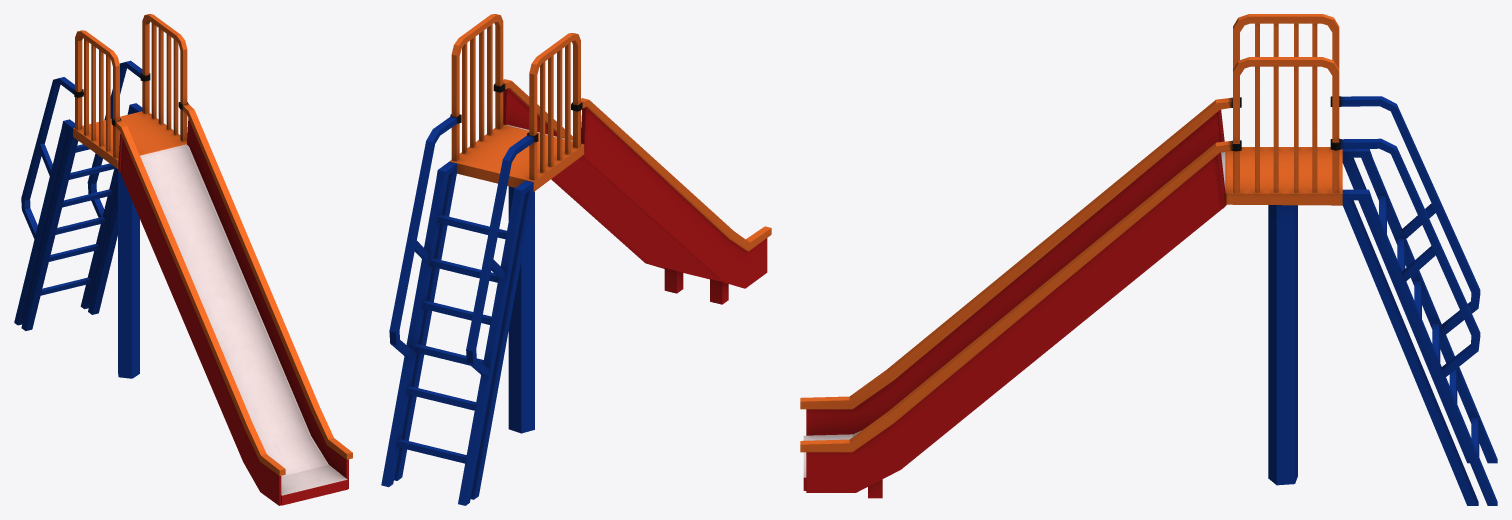
File: slide-opt.glb
3 renders of one model, left to right at view 1: azimuth 30°, elevation 25°; view 2: azimuth 150°, elevation 25°; view 3: azimuth 270°, elevation 25°, orthographic. The views are drawn at different scales.
Visible parts, largest first — view 1: Slide_Mesh; view 2: Slide_Mesh; view 3: Slide_Mesh.
Boxes of the visible parts, <box> form: Slide_Mesh: <box>14,14,352,505</box>; Slide_Mesh: <box>381,14,771,505</box>; Slide_Mesh: <box>800,14,1497,505</box>.
Size of the model in its own units: 1.11 by 4.72 by 6.69.
1 material, 1 textured.
